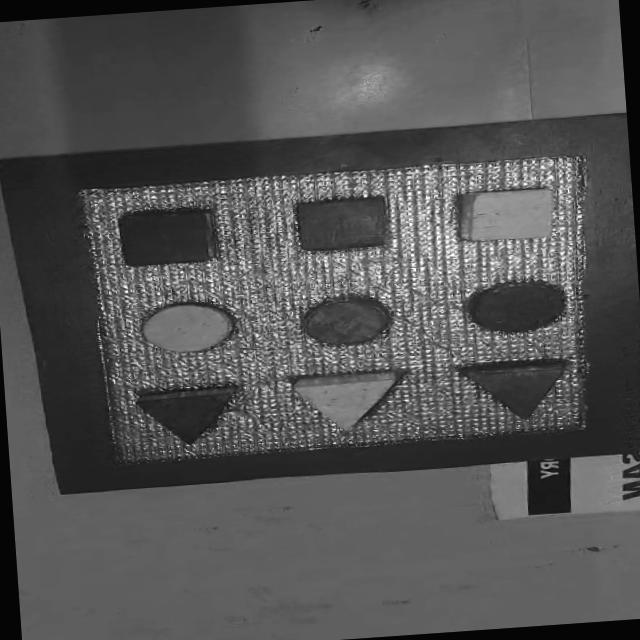bcircle: (460, 278, 574, 335)
bcube: (271, 186, 408, 258)
btriangle: (134, 379, 250, 446)
rcircle: (296, 292, 390, 349)
rcube: (111, 199, 219, 273)
rtriangle: (444, 354, 584, 436)
wb: (56, 144, 594, 464)
ycircle: (133, 296, 244, 360)
ycube: (451, 176, 563, 250)
ytriangle: (284, 368, 392, 434)
